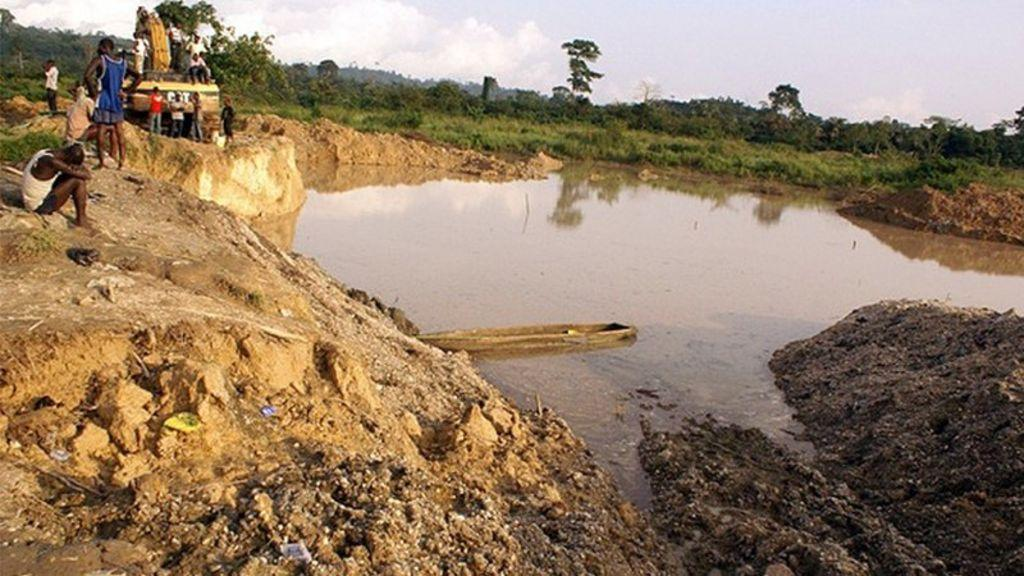ExcavationMachinery: (115, 4, 222, 145)
Person: (85, 36, 145, 174), (20, 141, 95, 230), (64, 93, 118, 158), (41, 59, 60, 121), (148, 86, 168, 136), (219, 98, 236, 149), (188, 91, 204, 144), (167, 20, 183, 71), (187, 53, 212, 85), (168, 92, 185, 137), (130, 32, 144, 76), (141, 33, 153, 75), (185, 37, 209, 57), (69, 79, 83, 101)
